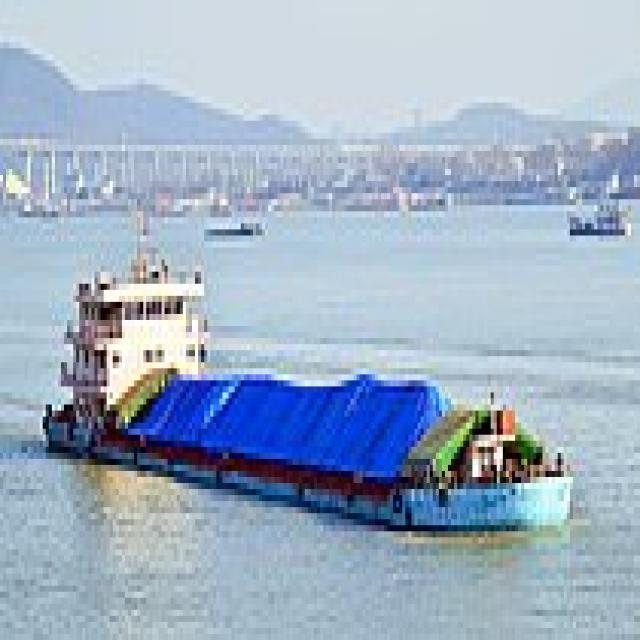Cargo: (33, 199, 570, 532)
